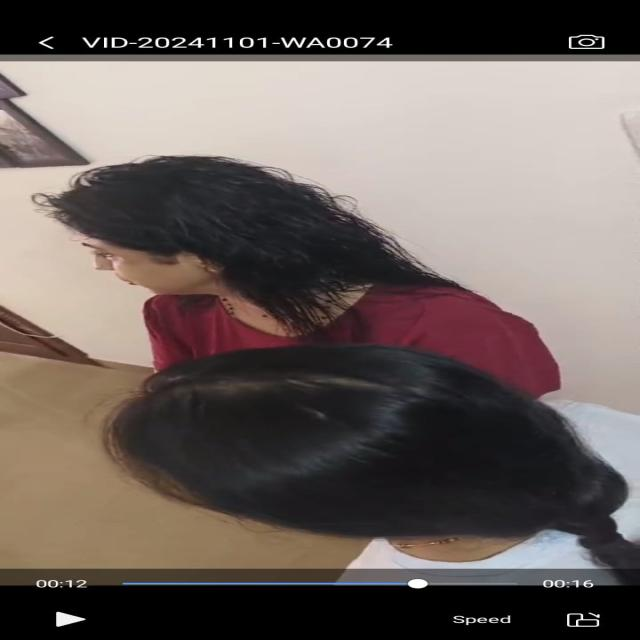humans: (64, 346, 640, 570), (32, 147, 501, 346)
